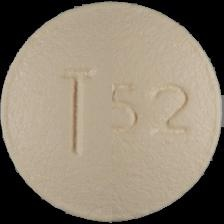55154-4838: (0, 0, 224, 224)
